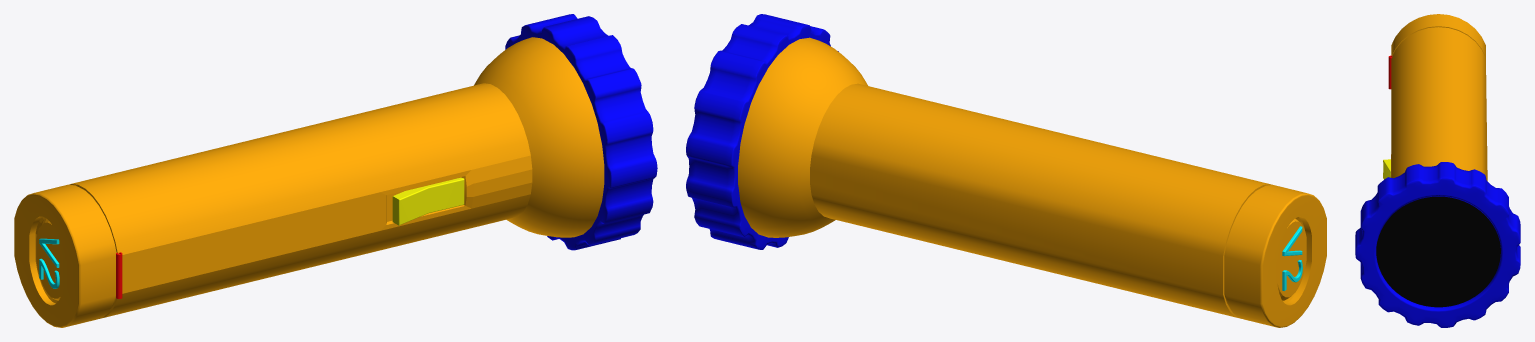
Rendered from flash_light2.glb.
3 views of the same model, side by side, from view 1: azimuth 30°, elevation 25°; view 2: azimuth 150°, elevation 25°; view 3: azimuth 270°, elevation 25° (orthographic). The views are drawn at different scales.
Parts seen in each view (by area): view 1: pSphere3, pPipe1, pCube1, typeMesh1; view 2: pSphere3, pPipe1, typeMesh1; view 3: pSphere3, pCylinder1, pPipe1, pCube1, pPipe2.
Boxes of the visible parts, x1,y1,x2,y2 form: pSphere3: (14, 37, 604, 327); pPipe1: (505, 14, 657, 250); pCube1: (392, 177, 464, 225); typeMesh1: (39, 238, 59, 288); pSphere3: (738, 37, 1326, 327); pPipe1: (686, 14, 838, 249); typeMesh1: (1282, 226, 1302, 290); pSphere3: (1391, 14, 1487, 180); pCylinder1: (1376, 196, 1500, 307); pPipe1: (1355, 162, 1520, 327); pCube1: (1383, 159, 1390, 179); pPipe2: (1388, 55, 1392, 89).
Bounding box in the file's own units: 29.36 × 10.59 × 10.57.
